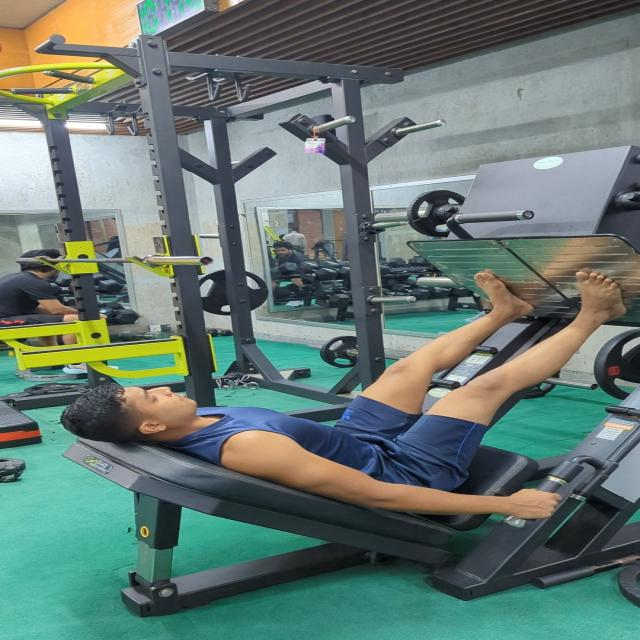Normal_LegPress: (56, 264, 640, 528)
